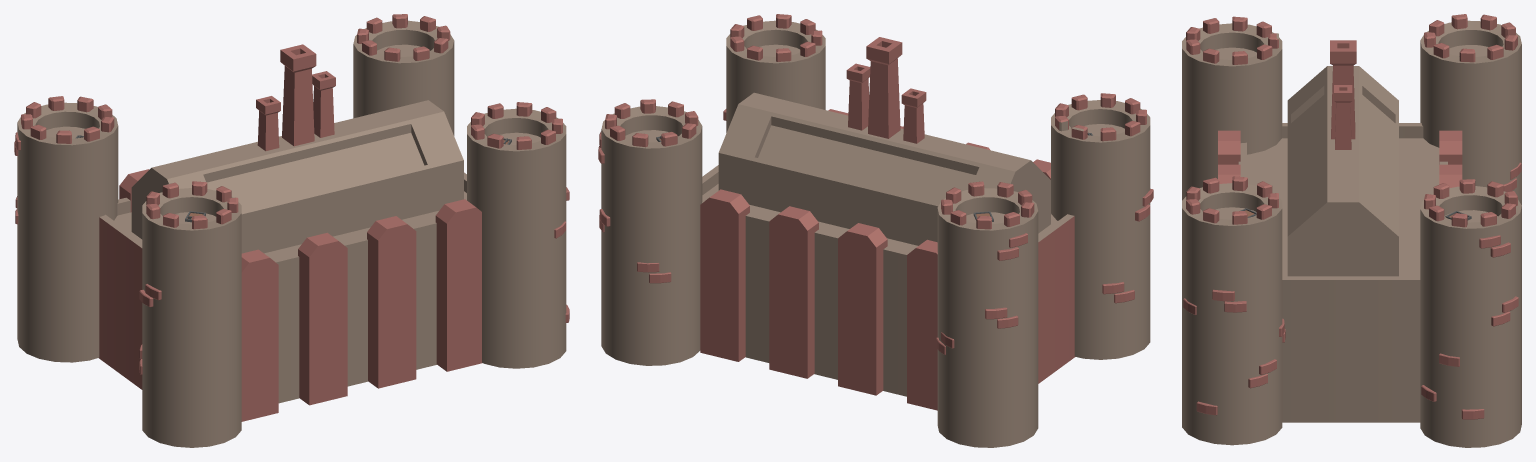
Rendered from TownHall.fbx.
3 renders of one model, left to right at view 1: azimuth 30°, elevation 25°; view 2: azimuth 150°, elevation 25°; view 3: azimuth 270°, elevation 25°, orthographic.
Parts seen in each view (by area): view 1: TownHall; view 2: TownHall; view 3: TownHall.
Part boxes in pixels (box(x1,y1,x2,y2)): TownHall: box(14, 14, 569, 447); TownHall: box(598, 14, 1153, 447); TownHall: box(1182, 14, 1521, 447).
Bounding box in the file's own units: 970 × 1420 × 941.
